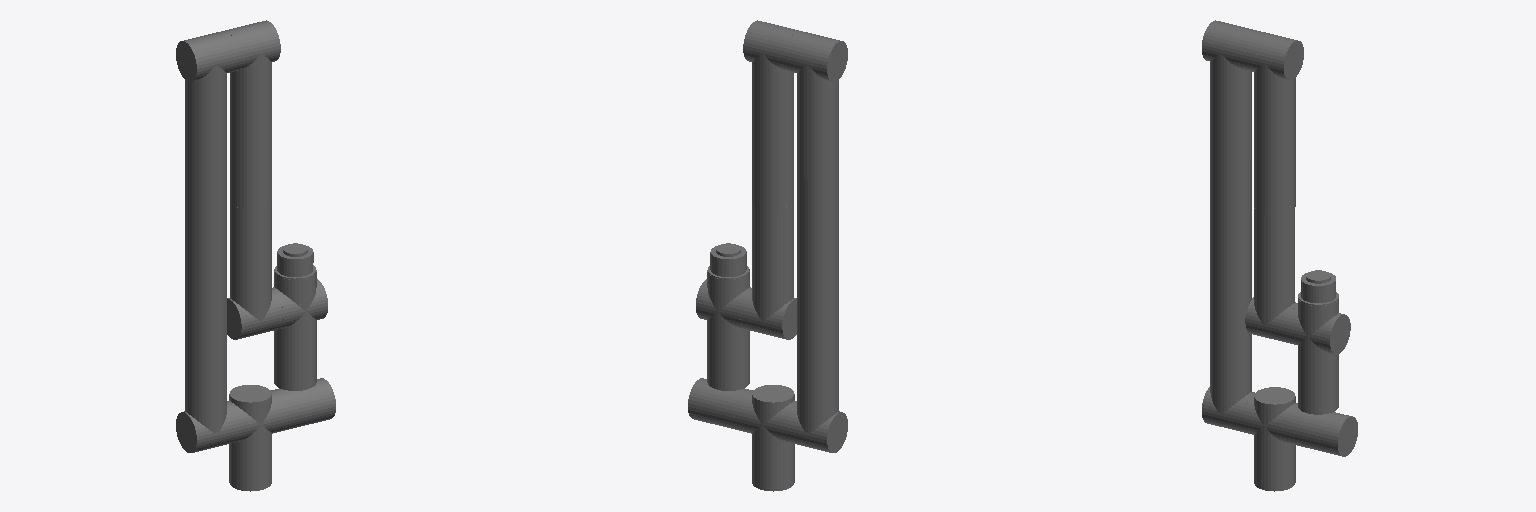
robot.urdf — satellite_with_arm:
  
<robot name="satellite_with_arm">
  <material name="metal_grey">
    <color rgba="0.501960784313725 0.501960784313725 0.501960784313725 1"/>
  </material>
    <material name="yellow">
    <color rgba="0.7 0.7 0 1"/>
  </material>

  <link name="base_urdf">
    <inertial>
      <origin xyz="0 0 0" rpy="0 0 0" />
      <mass value="4.48218" />
      <inertia
        ixx=" 0.04755097476"
        ixy=" 0.00000000000"
        ixz=" 0.00000000000"
        iyy=" 0.04755157166"
        iyz="-0.00000000081"
        izz=" 0.00981063776" />
    </inertial>

    <visual>
      <origin xyz="0 0 0" rpy="0 0 0" />
      <geometry>
        <mesh filename="meshes/base.stl" />
      </geometry>
      <material name="metal_grey"/>
    </visual>

    <collision>
      <origin rpy="0 0 0" xyz="0 0 0"/>
      <geometry>
        <mesh filename="meshes/base.stl"/>
      </geometry>
    </collision>
  </link>

<!-- link1-->
  <link name="Link1">
    <inertial>
      <origin xyz="0 0 0" rpy="0 0 0" />
      <mass value="6.68036" />
      <inertia
        ixx=" 0.10111928569"
        ixy=" 0.00000008334"
        ixz=" 0.03015133480"
        iyy=" 0.18848740784"
        iyz="-0.00000017706"
        izz=" 0.10400188938" />
    </inertial>

    <visual>
      <origin xyz="0 0 0" rpy="0 0 0" />
      <geometry>
        <mesh filename="meshes/link1.stl" />
      </geometry>
      <material name="metal_grey"/>
    </visual>

    <collision>
      <origin rpy="0 0 0" xyz="0 0 0"/>
      <geometry>
        <mesh filename="meshes/link1.stl"/>
      </geometry>
    </collision>
  </link>

<!-- link2-->
  <link name="Link2">
    <inertial>
      <origin xyz="0 0 0" rpy="0 0 0" />
      <mass value="11.79632" />
      <inertia
        ixx=" 4.91550234685"
        ixy=" 0.00000014822"
        ixz="-0.50555195363"
        iyy=" 4.98412972242"
        iyz=" 0.00000019211"
        izz=" 0.09931438243" />
    </inertial>

    <visual>
      <origin xyz="0 0 0" rpy="0 0 0" />
      <geometry>
        <mesh filename="meshes/link2.stl" />
      </geometry>
      <material name="metal_grey"/>
    </visual>

    <collision>
      <origin rpy="0 0 0" xyz="0 0 0"/>
      <geometry>
        <mesh filename="meshes/link2.stl"/>
      </geometry>
    </collision>
  </link>

<!-- link3-->
  <link name="Link3">
    <inertial>
      <origin xyz="0 0 0" rpy="0 0 0" />
      <mass value="6.64337" />
      <inertia
        ixx=" 0.63648861546"
        ixy="-0.00000008021"
        ixz=" 0.05018998139"
        iyy=" 0.64404883542"
        iyz=" 0.00000051611"
        izz=" 0.02392204376" />
    </inertial>

    <visual>
      <origin xyz="0 0 0" rpy="0 0 0" />
      <geometry>
        <mesh filename="meshes/link3.stl" />
      </geometry>
      <material name="metal_grey"/>
    </visual>

    <collision>
      <origin rpy="0 0 0" xyz="0 0 0"/>
      <geometry>
        <mesh filename="meshes/link3.stl"/>
      </geometry>
    </collision>
  </link>

<!-- link4-->
  <link name="Link4">
    <inertial>
      <origin xyz="0 0 0" rpy="0 0 0" />
      <mass value="10.52407" />
      <inertia
        ixx=" 1.58306193195"
        ixy="-0.00000015788"
        ixz="-0.26496599873"
        iyy=" 1.64103561723"
        iyz="-0.00000014054"
        izz=" 0.08369098333" />
    </inertial>

    <visual>
      <origin xyz="0 0 0" rpy="0 0 0" />
      <geometry>
        <mesh filename="meshes/link4.stl" />
      </geometry>
      <material name="metal_grey"/>
    </visual>

    <collision>
      <origin rpy="0 0 0" xyz="0 0 0"/>
      <geometry>
        <mesh filename="meshes/link4.stl"/>
      </geometry>
    </collision>
  </link>

<!-- link5-->
  <link name="Link5">
    <inertial>
      <origin xyz="0 0 0" rpy="0 0 0" />
      <mass value="6.64337" />
      <inertia
        ixx=" 0.63648861546"
        ixy=" 0.00000008021"
        ixz="-0.05018998139"
        iyy=" 0.64404883542"
        iyz=" 0.00000051611"
        izz=" 0.02392204376" />
    </inertial>

    <visual>
      <origin xyz="0 0 0" rpy="0 0 0" />
      <geometry>
        <mesh filename="meshes/link5.stl" />
      </geometry>
      <material name="metal_grey"/>
    </visual>

    <collision>
      <origin rpy="0 0 0" xyz="0 0 0"/>
      <geometry>
        <mesh filename="meshes/link5.stl"/>
      </geometry>
    </collision>
  </link>

<!-- link6-->
  <link name="Link6">
    <inertial>
      <origin xyz="0 0 0" rpy="0 0 0" />
      <mass value="8.75036" />
      <inertia
        ixx=" 0.30380671545"
        ixy="-0.00000008334"
        ixz=" 0.02875889215"
        iyy=" 0.31843566669"
        iyz="-0.00000017706"
        izz=" 0.03617183352" />
    </inertial>

    <visual>
      <origin xyz="0 0 0" rpy="0 0 0" />
      <geometry>
        <mesh filename="meshes/link6.stl" />
      </geometry>
      <material name="metal_grey"/>
    </visual>

    <collision>
      <origin rpy="0 0 0" xyz="0 0 0"/>
      <geometry>
        <mesh filename="meshes/link6.stl"/>
      </geometry>
    </collision>
  </link>

<!-- link7-->
  <link name="Link7">
    <inertial>
      <origin xyz="0 0 0" rpy="0 0 0" />
      <mass value="4.49347" />
      <inertia
        ixx="0.00157801213"
        ixy="0.00000000000"
        ixz="0.00000000000"
        iyy="0.01157801213"
        iyz="0.00000000000"
        izz="0.00894926406" />
    </inertial>

    <visual>
      <origin xyz="0 0 0" rpy="0 0 0" />
      <geometry>
        <mesh filename="meshes/link7.stl" />
      </geometry>
      <material name="metal_grey"/>

    </visual>
    <collision>
      <origin rpy="0 0 0" xyz="0 0 0"/>
      <geometry>
        <mesh filename="meshes/link7.stl"/>
      </geometry>
    </collision>
  </link>

<!-- tcp-->
  <link name="tcp">
    <inertial>
      <mass value="0.0"/>
      <origin rpy="0 0 0" xyz="0.0 0.0 0.0"/>
      <inertia ixx="0.0" ixy="0.0" ixz="0.0" iyy="0.0" iyz="0.0" izz="0.0"/>
    </inertial>

    <collision>
      <geometry>
        <box size="0.00 0.00 0.00"/>
      </geometry>
      <origin rpy="0 0 0" xyz="0.00 0 0"/>
    </collision>
  </link>
  <link name="camera_link">
    <inertial>
      <mass value="0.0"/>
      <origin rpy="0 0 0" xyz="0.0 0.0 0.0"/>
      <inertia ixx="0.0" ixy="0.0" ixz="0.0" iyy="0.0" iyz="0.0" izz="0.0"/>
    </inertial>

    <collision>
      <geometry>
        <box size="0.00 0.00 0.00"/>
      </geometry>
      <origin rpy="0 0 0" xyz="0.00 0 0"/>
    </collision>
  </link>
    <link name="world"/>
  <joint name="world_fixed" type="fixed">
    <origin xyz="0 0 0" rpy="0 0 0" />
    <parent link="world" />
    <child link="base_urdf" />
  </joint>

<!-- joint1-->
  <joint name="Joint1" type="revolute">
    <origin xyz="0 0 0.128" rpy="0 0 0" />
    <parent link="base_urdf" />
    <child link="Link1" />
    <axis xyz="0 0 1" />
    <limit
      lower="-6.28"
      upper="6.28"
      effort="100"
      velocity="20" />
  </joint>

<!-- joint2-->
  <joint name="Joint2" type="revolute">
    <origin xyz="-0.0915 0 0.128" rpy="0 0 0" />
    <parent link="Link1" />
    <child link="Link2" />
    <axis xyz="-1 0 0" />
    <limit
      lower="-6.28"
      upper="6.28"
      effort="100"
      velocity="20" />
  </joint>

<!-- joint3-->
  <joint name="Joint3" type="revolute">
    <origin xyz="-0.0915 0 1.0045" rpy="0 0 0" />
    <parent link="Link2" />
    <child link="Link3" />
    <axis xyz="0 0 1" />
    <limit
      lower="-6.28"
      upper="6.28"
      effort="100"
      velocity="20" />
  </joint>

<!-- joint4-->
  <joint name="Joint4" type="revolute">
    <origin xyz="0.0915 0 0.4455" rpy="0 0 0" />
    <parent link="Link3" />
    <child link="Link4" />
    <axis xyz="1 0 0" />
    <limit
      lower="-6.28"
      upper="6.28"
      effort="100"
      velocity="20" />
  </joint>

<!-- joint5-->
  <joint name="Joint5" type="revolute">
    <origin xyz="0.0915 0 -0.6045" rpy="0 0 0" />
    <parent link="Link4" />
    <child link="Link5" />
    <axis xyz="0 0 -1" />
    <limit
      lower="-6.28"
      upper="6.28"
      effort="100"
      velocity="20" />
  </joint>

<!-- joint6-->
  <joint name="Joint6" type="revolute">
    <origin xyz="0.0915 0 -0.4455" rpy="0 0 0" />
    <parent link="Link5" />
    <child link="Link6" />
    <axis xyz="1 0 0" />
    <limit
      lower="-6.28"
      upper="6.28"
      effort="100"
      velocity="20" />
  </joint>

<!-- joint7-->
  <joint name="Joint7" type="revolute">
    <origin xyz="0.0915 0 0.128" rpy="0 0 0" />
    <parent link="Link6" />
    <child link="Link7" />
    <axis xyz="0 0 1" />
    <limit
      lower="-6.28"
      upper="6.28"
      effort="100"
      velocity="20" />
  </joint>

  <joint name="tcp" type="fixed">
    <origin xyz="0 0 0.087" rpy="0 0 0"/>
    <parent link="Link7"/>
    <child link="tcp"/>
  </joint>

  <joint name="camera_joint" type="fixed">
    <origin xyz="0 0 0.0" rpy="0 0 0"/>
    <parent link="tcp"/>
    <child link="camera_link"/>
  </joint>

</robot>

--- Render facts (derived) ---
Views: 3 orthographic renders of the robot side by side, from view 1: azimuth 30°, elevation 25°; view 2: azimuth 150°, elevation 25°; view 3: azimuth 330°, elevation 25°.
Robot: satellite_with_arm — 11 links, 10 joints (7 revolute, 3 fixed); root link world; default pose: all joints at 0.
Visible links, largest first — view 1: Link2, Link4, Link3, Link5, Link1, Link6, base_urdf, Link7; view 2: Link2, Link4, Link3, Link5, Link1, Link6, base_urdf, Link7; view 3: Link2, Link4, Link3, Link1, Link6, Link5, base_urdf, Link7.
Boxes of the visible links, x1=… form: Link2: x1=176, y1=173, x2=238, y2=452; Link4: x1=225, y1=20, x2=280, y2=208; Link3: x1=176, y1=31, x2=238, y2=179; Link5: x1=227, y1=202, x2=283, y2=339; Link1: x1=227, y1=378, x2=335, y2=458; Link6: x1=272, y1=270, x2=327, y2=390; base_urdf: x1=229, y1=450, x2=271, y2=491; Link7: x1=274, y1=243, x2=315, y2=279; Link2: x1=785, y1=173, x2=847, y2=452; Link4: x1=743, y1=20, x2=798, y2=208; Link3: x1=785, y1=31, x2=847, y2=179; Link5: x1=740, y1=202, x2=796, y2=339; Link1: x1=688, y1=378, x2=796, y2=458; Link6: x1=696, y1=270, x2=751, y2=390; base_urdf: x1=752, y1=450, x2=794, y2=491; Link7: x1=708, y1=243, x2=749, y2=279; Link2: x1=1202, y1=157, x2=1254, y2=432; Link4: x1=1243, y1=30, x2=1303, y2=215; Link3: x1=1202, y1=20, x2=1255, y2=164; Link1: x1=1243, y1=387, x2=1357, y2=458; Link6: x1=1286, y1=299, x2=1350, y2=414; Link5: x1=1245, y1=208, x2=1297, y2=343; base_urdf: x1=1254, y1=451, x2=1295, y2=491; Link7: x1=1298, y1=270, x2=1338, y2=305.
Size in the robot's own frame: 0.5695 by 0.1501 by 1.78 metres.
8 mesh visuals loaded from 8 distinct referenced files (8 binary STL).